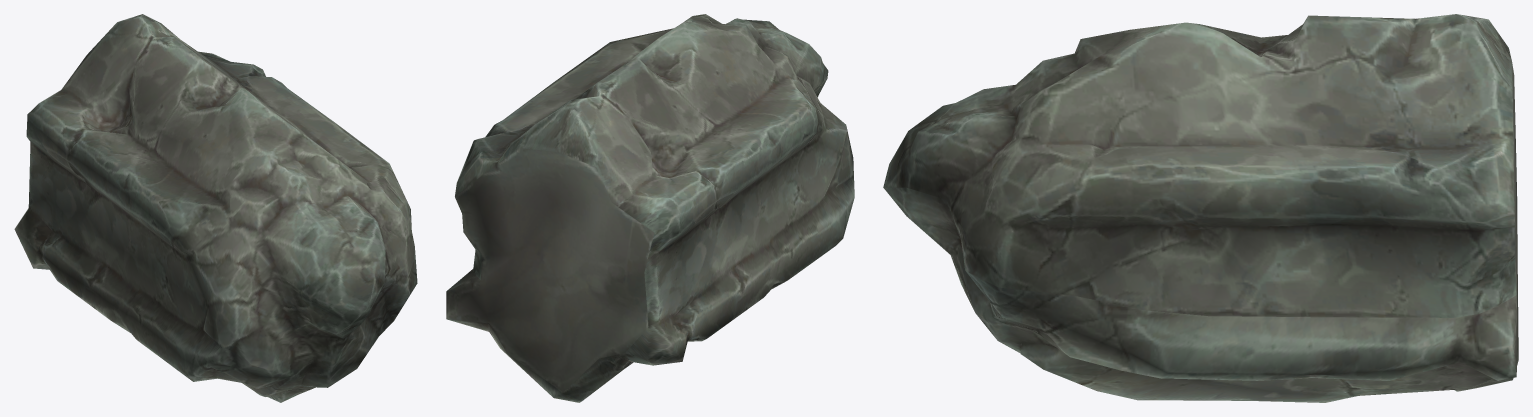
File: Ruins_Pillar_Dmg_A.fbx
3 renders of one model, left to right at view 1: azimuth 30°, elevation 25°; view 2: azimuth 150°, elevation 25°; view 3: azimuth 270°, elevation 25°, orthographic. The views are drawn at different scales.
Visible parts, largest first — view 1: Ruins_Pillar_Dmg_A; view 2: Ruins_Pillar_Dmg_A; view 3: Ruins_Pillar_Dmg_A.
Part boxes in pixels (x1=…): Ruins_Pillar_Dmg_A: x1=14, y1=14, x2=417, y2=402; Ruins_Pillar_Dmg_A: x1=446, y1=14, x2=854, y2=402; Ruins_Pillar_Dmg_A: x1=883, y1=14, x2=1518, y2=402.
Size of the model in its own units: 305 by 387 by 580.
